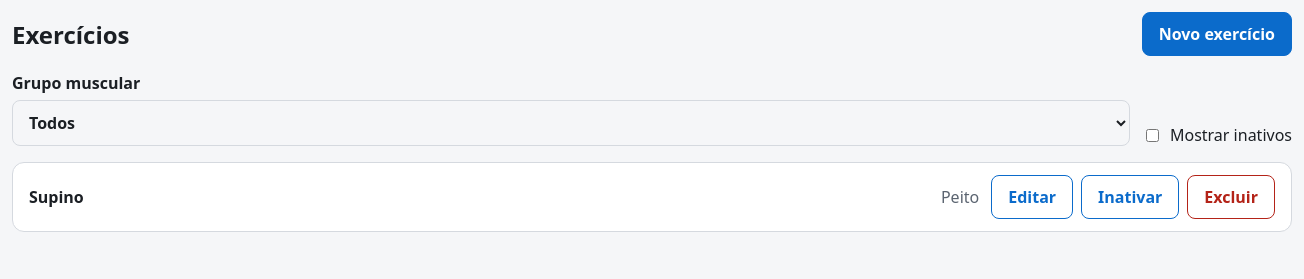
Test: catálogo de exercícios › excluir exercício em fichas: mostra o motivo
Click the button "Excluir" at point(1231, 197), box [1187, 175, 1275, 219]
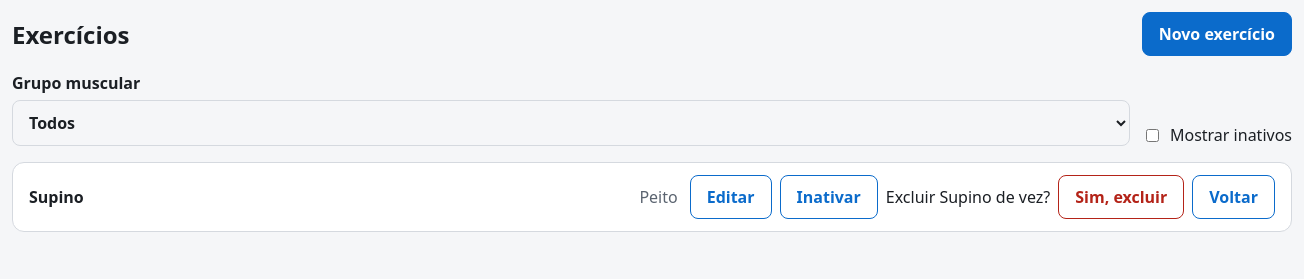
Click the button "Sim, excluir" at point(1121, 197), box [1058, 175, 1184, 219]
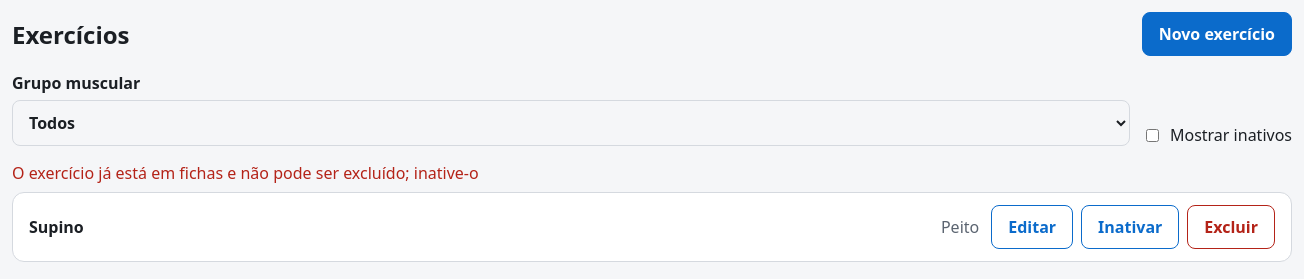
Now the text "já está em fichas" is shown, box [12, 162, 479, 184]
